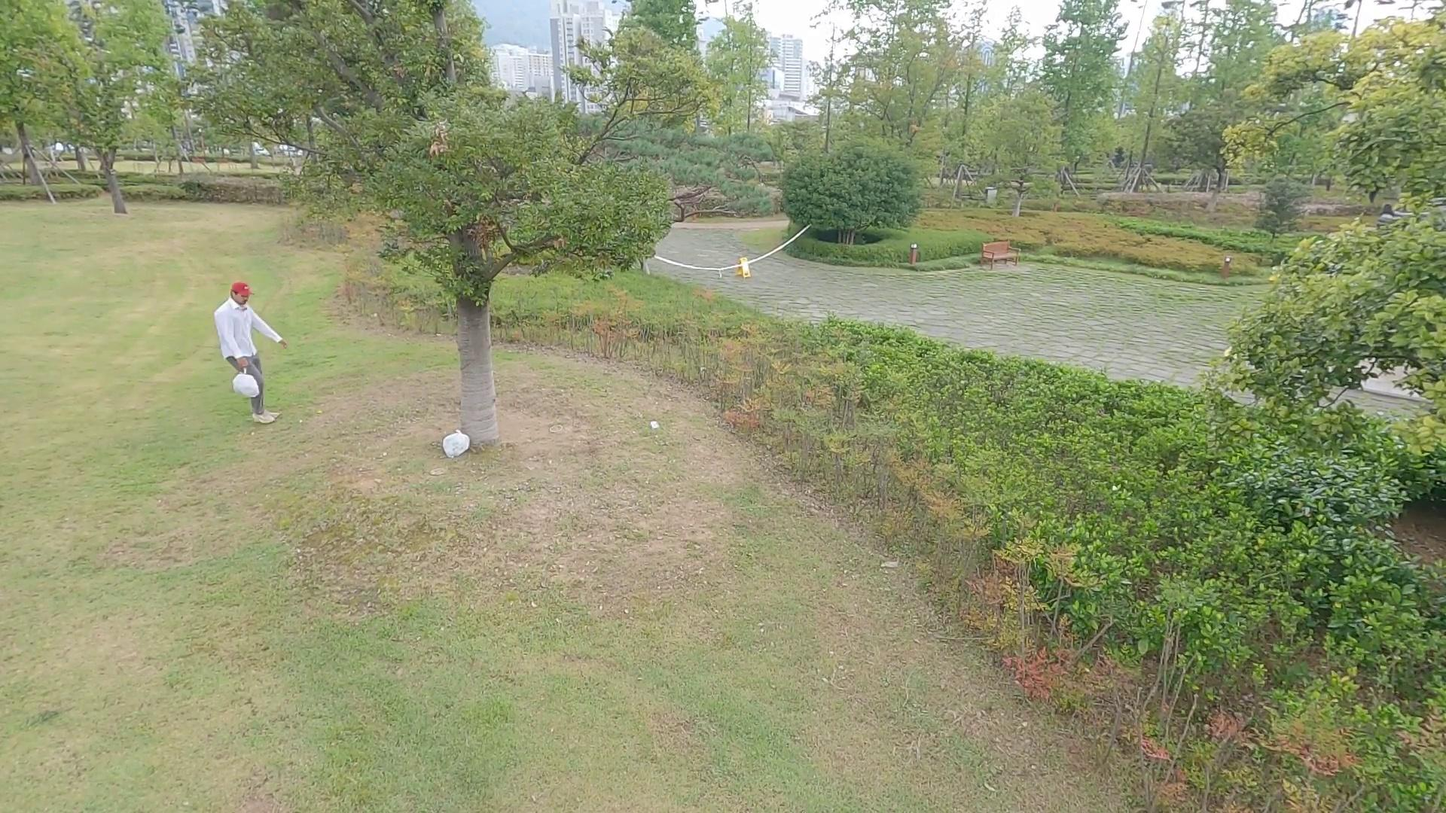person: (211, 278, 294, 436)
trash: (226, 364, 265, 403), (437, 426, 477, 463)
